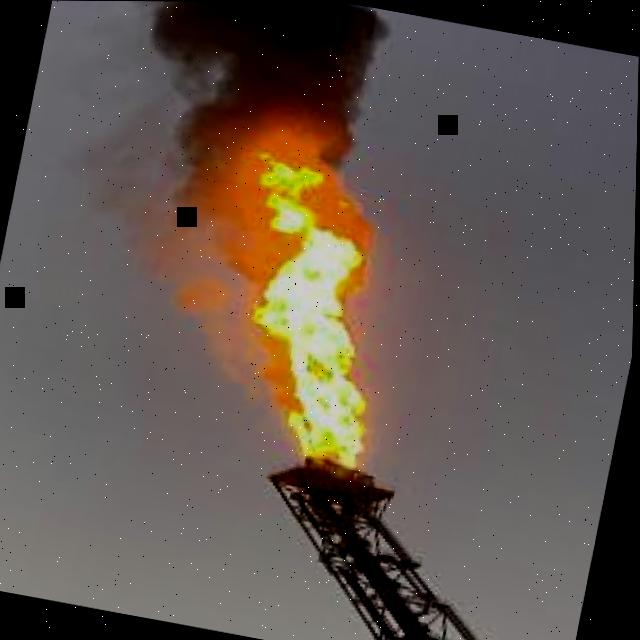fire: (160, 78, 376, 468)
smoke: (61, 1, 391, 265)
